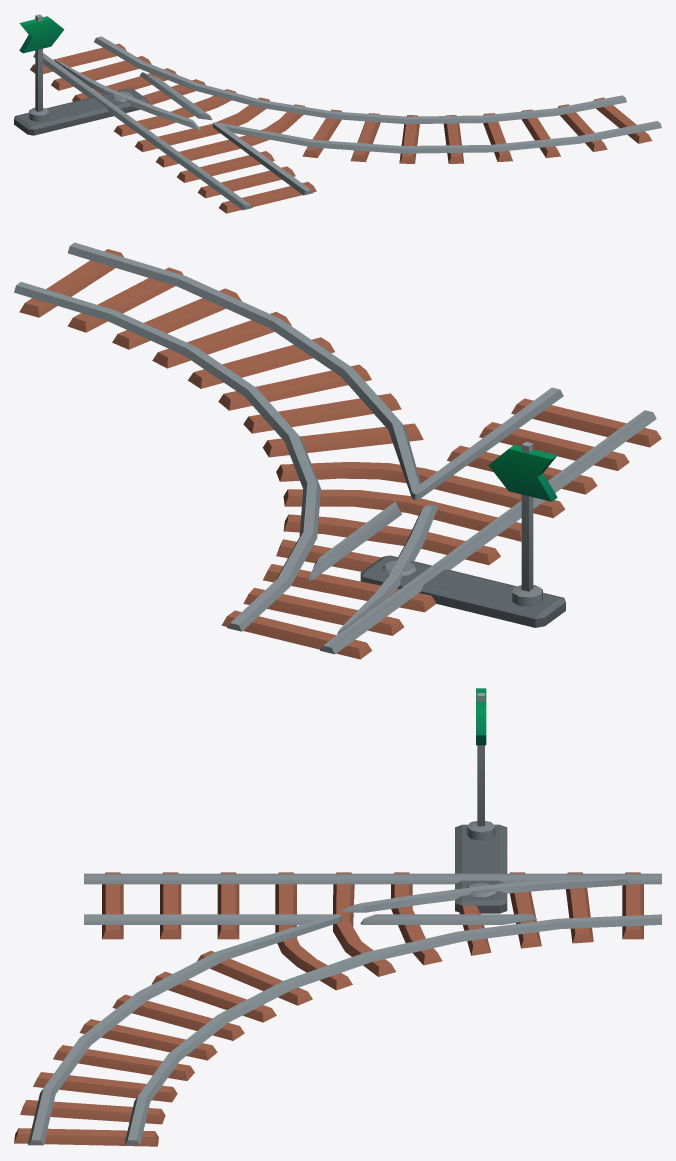
File: tracks_split_left.gltf
3 views of the same model, one above another, from view 1: azimuth 30°, elevation 25°; view 2: azimuth 150°, elevation 25°; view 3: azimuth 270°, elevation 25° (orthographic). The views are drawn at different scales.
Visible parts, largest first — view 1: tracks_split_left, tracks_split_left_arrow, tracks_split_left_part; view 2: tracks_split_left, tracks_split_left_arrow, tracks_split_left_part; view 3: tracks_split_left, tracks_split_left_arrow, tracks_split_left_part.
Part boxes in pixels (x1,y1,x2,y2): tracks_split_left: (14, 36, 661, 213); tracks_split_left_arrow: (19, 14, 64, 121); tracks_split_left_part: (55, 60, 133, 101); tracks_split_left: (14, 242, 661, 659); tracks_split_left_arrow: (488, 442, 557, 606); tracks_split_left_part: (337, 560, 416, 634); tracks_split_left: (14, 824, 661, 1146); tracks_split_left_arrow: (466, 688, 495, 840); tracks_split_left_part: (467, 878, 629, 897).
Bounding box in the file's own units: 2.62 × 0.575 × 2.24.
Materials: 1 (1 with a texture image).
